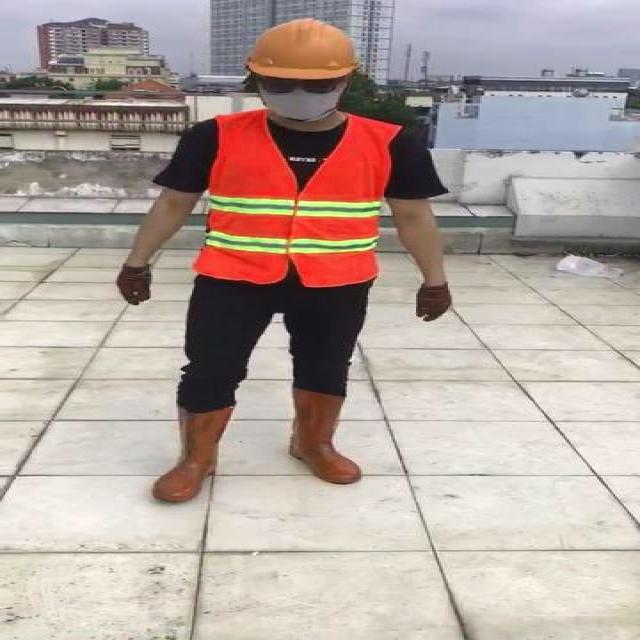boots: (151, 404, 237, 505), (290, 390, 364, 484)
face_mask: (254, 68, 345, 122)
glasses: (248, 72, 358, 100)
hand_glove: (410, 282, 450, 324), (117, 264, 151, 305)
head_helmet: (242, 16, 366, 82)
person: (95, 9, 479, 508)
vest: (197, 112, 402, 283)
